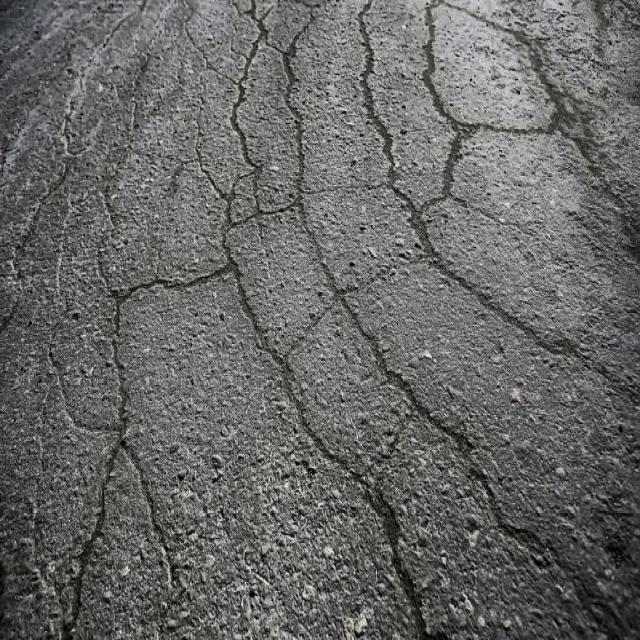Drain Hole: (24, 8, 640, 640)
